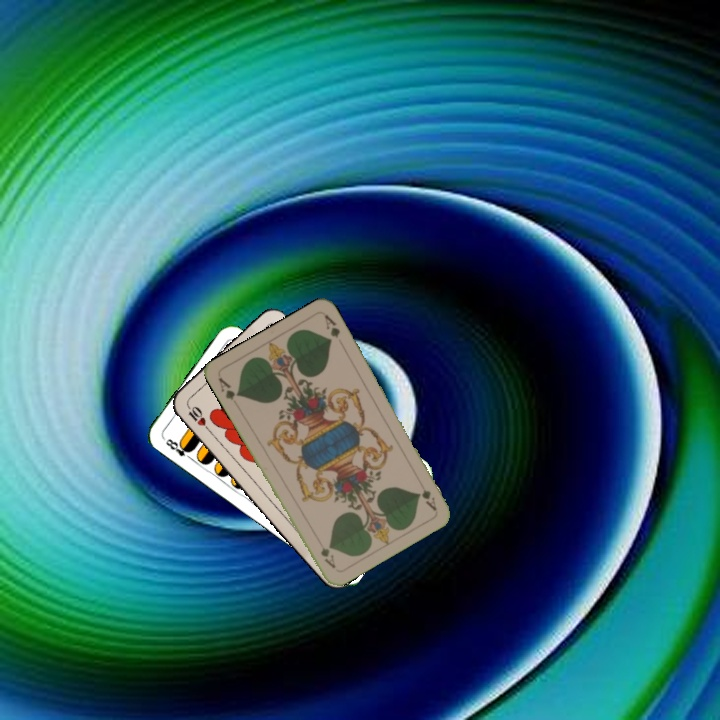E8: (161, 435, 195, 463)
GA: (214, 373, 242, 403), (417, 479, 440, 513)
H10: (183, 401, 213, 435)
